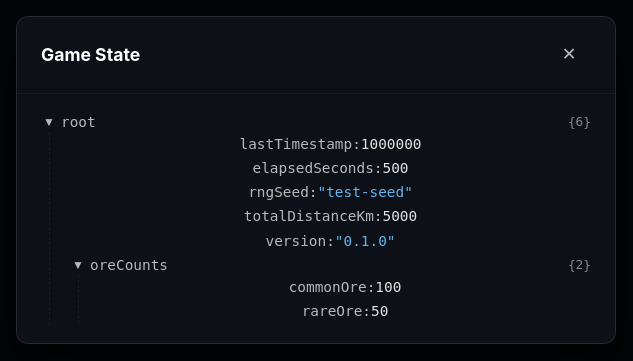
Test: GameStateViewer › should collapse an expanded object when its toggle is clicked
Click the button named "Collapse".
click(49, 122)  # box x1=41 y1=114 x2=57 y2=130
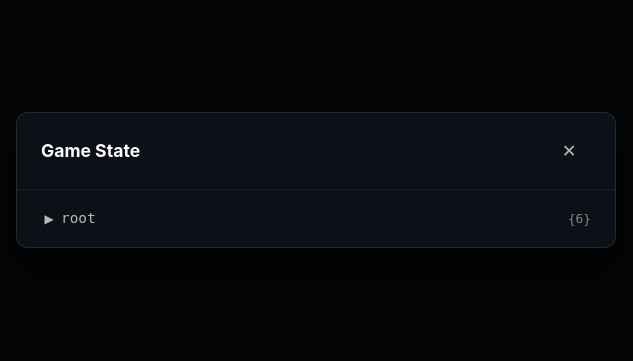
expect the text with test id "game-state-json" no longer shows "commonOre": met
expect the text with test id "game-state-json" no longer shows "100": met
